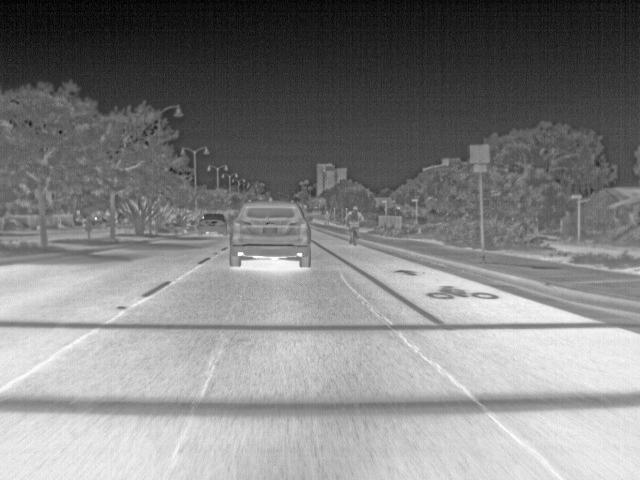car: (227, 200, 312, 268), (195, 212, 227, 236), (227, 210, 237, 224)
person: (347, 204, 363, 229), (323, 209, 330, 224)
